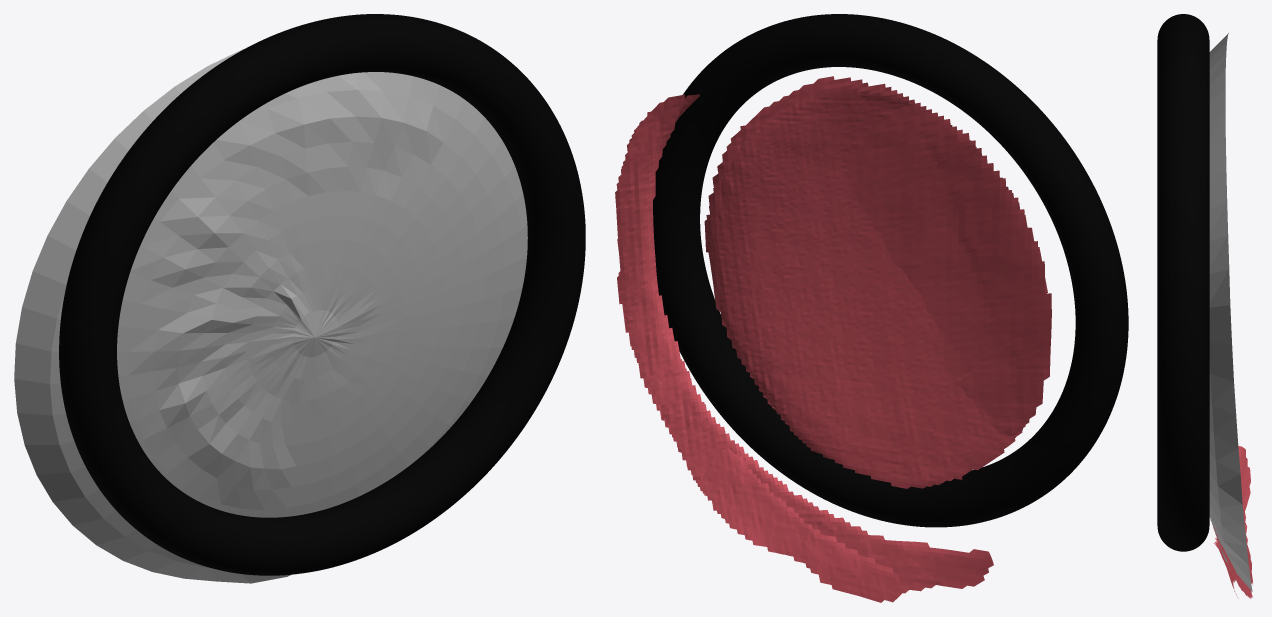
Rendered from G06_H3_FULL_HERO.glb.
The picture shows the model from 3 angles, left to right: view 1: azimuth 30°, elevation 25°; view 2: azimuth 150°, elevation 25°; view 3: azimuth 270°, elevation 25°; orthographic projection. The views are drawn at different scales.
Parts seen in each view (by area): view 1: Body_A2, Ring; view 2: 004_G06_v004_raw00744, Ring, 004_G06_v004_raw00046; view 3: Ring, Body_A2, 004_G06_v004_raw00046, 004_G06_v004_raw00744.
Part boxes in pixels (left/top/right/bottom): Body_A2: left=14, top=48, right=527, bottom=583; Ring: left=59, top=14, right=585, bottom=575; 004_G06_v004_raw00744: left=616, top=92, right=1047, bottom=602; Ring: left=653, top=14, right=1128, bottom=527; 004_G06_v004_raw00046: left=615, top=76, right=1051, bottom=593; Ring: left=1157, top=14, right=1209, bottom=551; Body_A2: left=1209, top=33, right=1252, bottom=591; 004_G06_v004_raw00046: left=1213, top=440, right=1250, bottom=598; 004_G06_v004_raw00744: left=1210, top=520, right=1252, bottom=598.
Bounding box in the file's own units: 0.0132 × 0.0137 × 0.00231.
